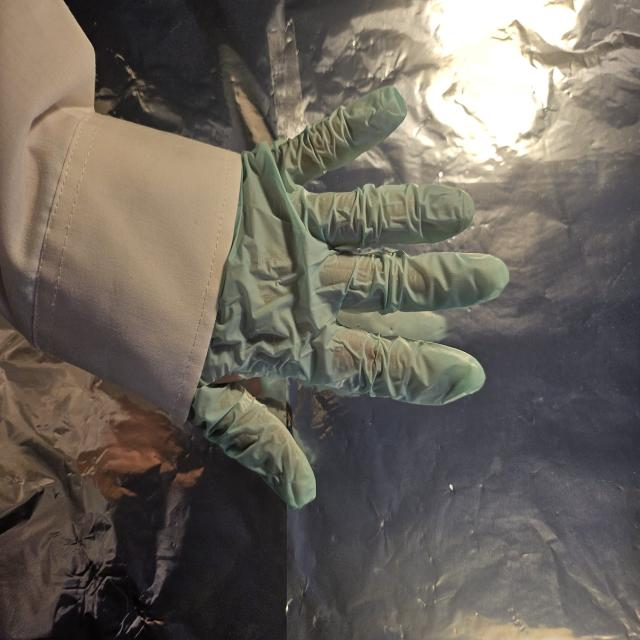gloves_damaged: (186, 83, 514, 512)
